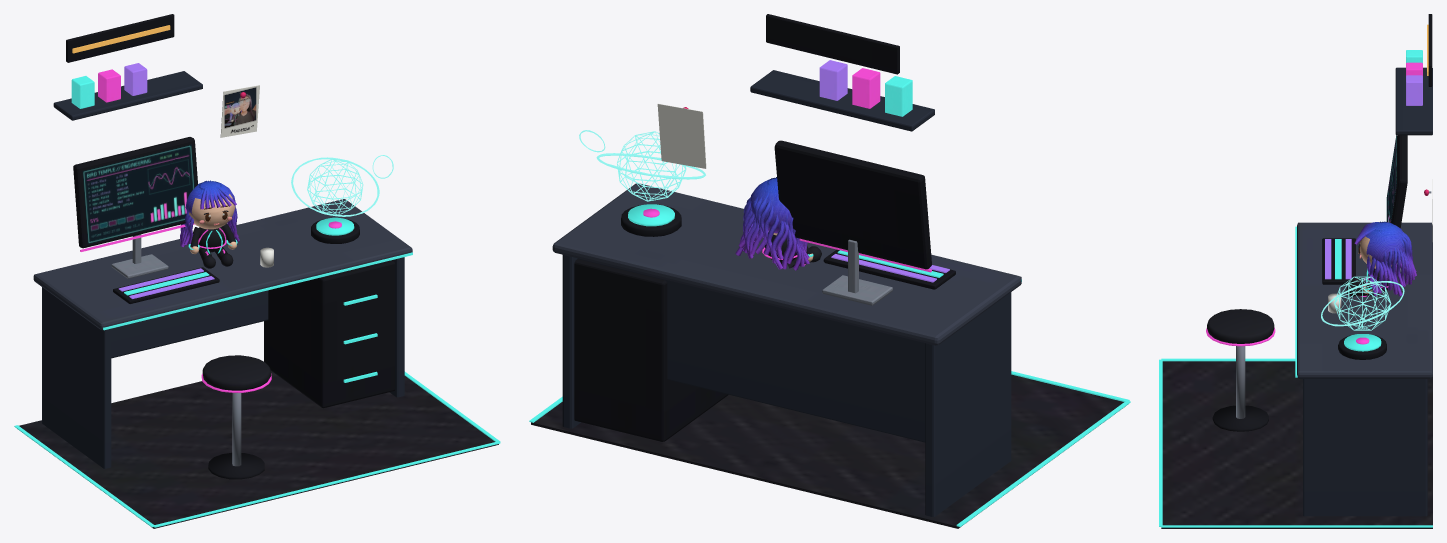
File: bt-engineering.glb
3 renders of one model, left to right at view 1: azimuth 30°, elevation 25°; view 2: azimuth 150°, elevation 25°; view 3: azimuth 270°, elevation 25°, orthographic. The views are drawn at different scales.
Visible parts, largest first — view 1: BTE_Felt, BTE_Glow, BTE_Screen, FX_BTE_Holo, BTE_Polaroid; view 2: BTE_Felt, BTE_Glow, BTE_Polaroid, FX_BTE_Holo; view 3: BTE_Felt, BTE_Glow, FX_BTE_Holo, BTE_Screen.
Part boxes in pixels (left/top/right/bottom): BTE_Felt: left=19, top=14, right=498, bottom=528; BTE_Glow: left=14, top=25, right=500, bottom=527; BTE_Screen: left=82, top=144, right=194, bottom=244; FX_BTE_Holo: left=291, top=155, right=393, bottom=216; BTE_Polaroid: left=220, top=85, right=259, bottom=137; BTE_Felt: left=531, top=14, right=1125, bottom=528; BTE_Glow: left=529, top=60, right=1130, bottom=526; BTE_Polaroid: left=657, top=103, right=706, bottom=168; FX_BTE_Holo: left=579, top=130, right=705, bottom=201; BTE_Felt: left=1161, top=14, right=1432, bottom=528; BTE_Glow: left=1159, top=24, right=1432, bottom=527; FX_BTE_Holo: left=1321, top=276, right=1404, bottom=330; BTE_Screen: left=1386, top=135, right=1396, bottom=222.
Size of what is drawn, in the model's own units: 4.24 by 4.38 by 2.92.
5 materials, 4 textured.
